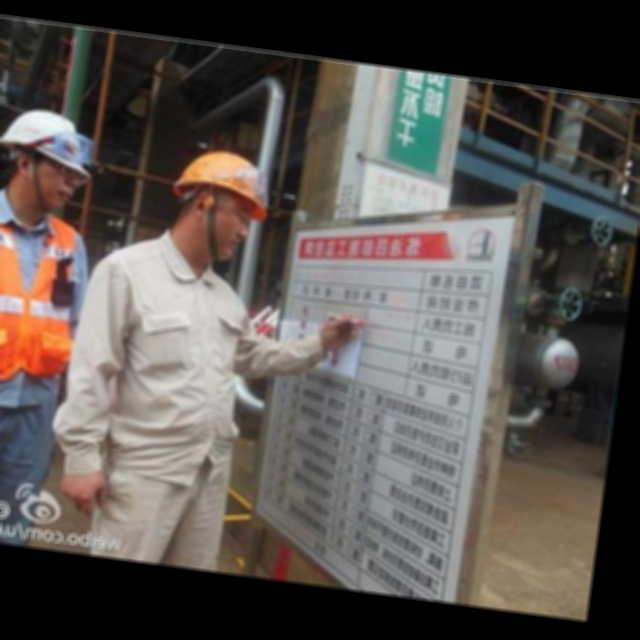Con_Chaleco: (0, 191, 89, 387)
Sin_Chaleco: (62, 239, 261, 469)
